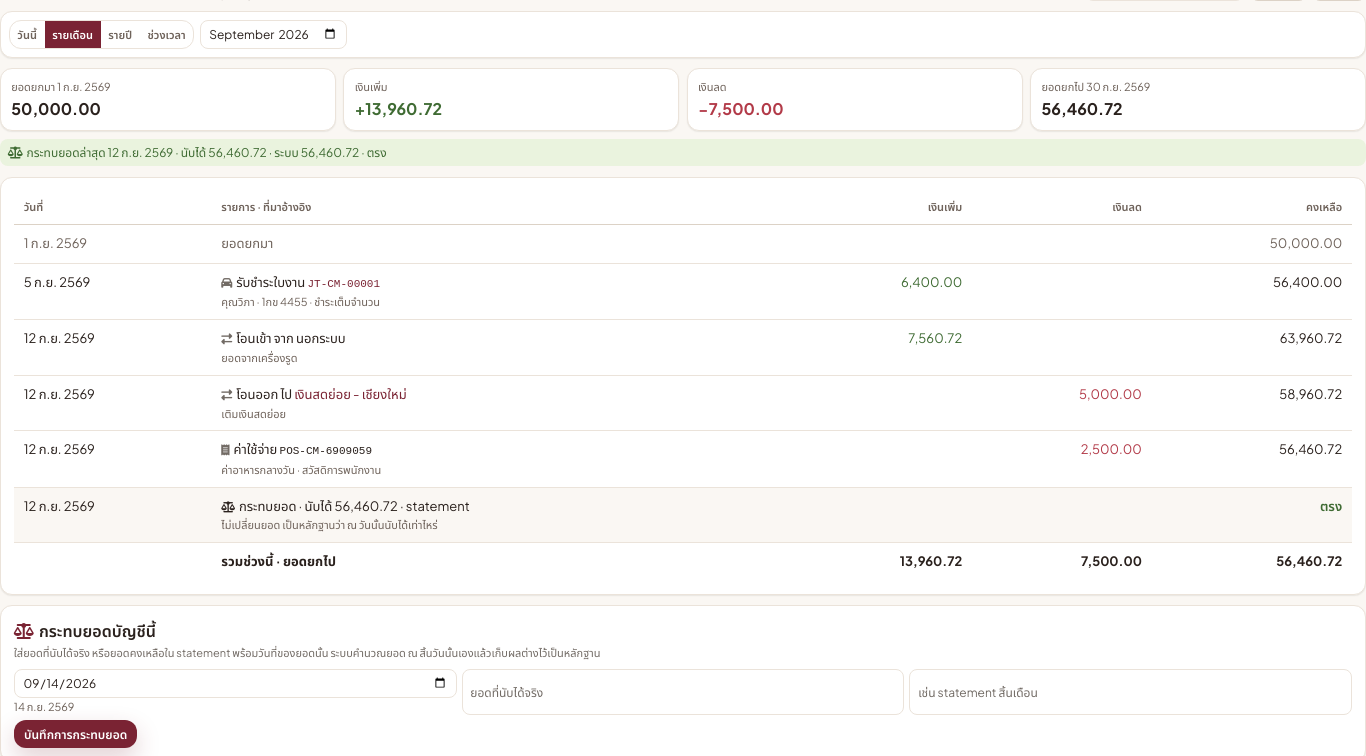
Test: LedgerModule › will not record a count without the counted figure
(page scrolled)
Click the button "บันทึกการกระทบยอด": (76, 734) left=14, top=720, right=138, bottom=748
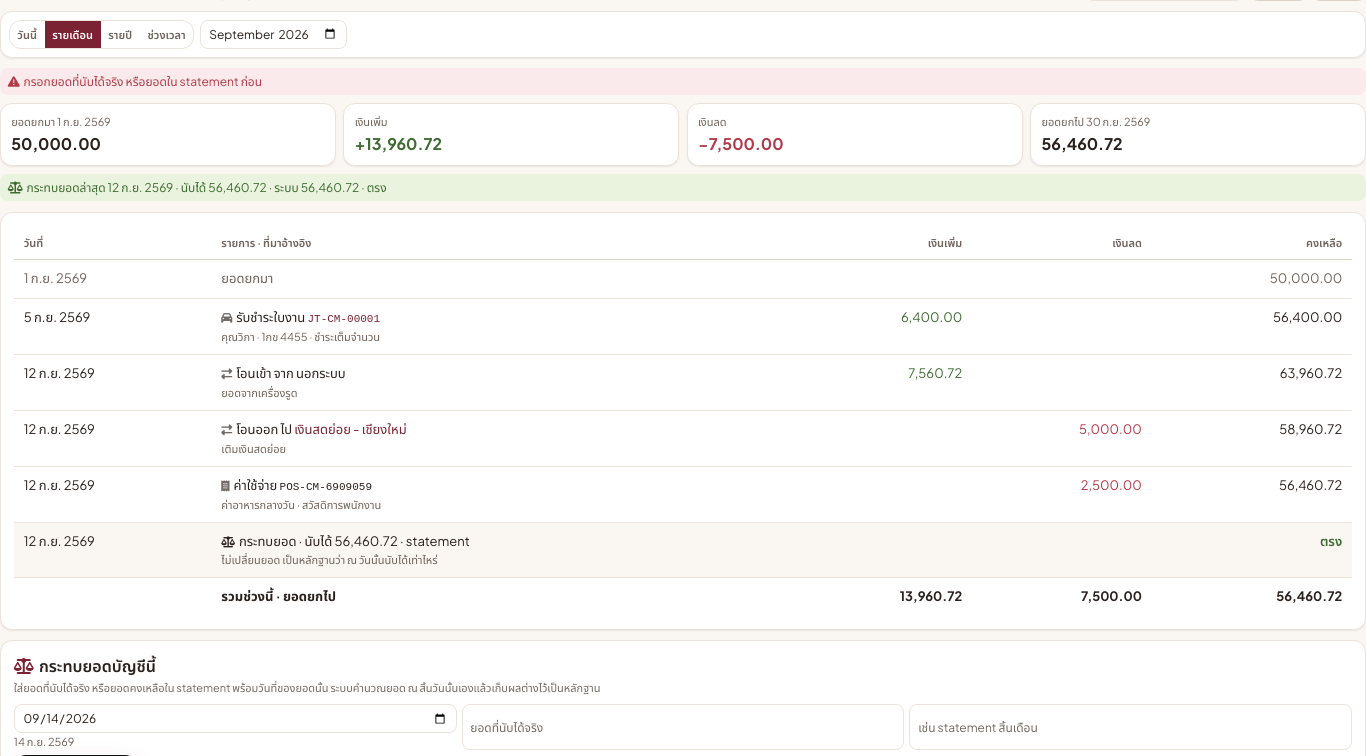
Result: the message shows "กรอกยอดที่นับได้จริง" at left=24, top=74, right=262, bottom=89
